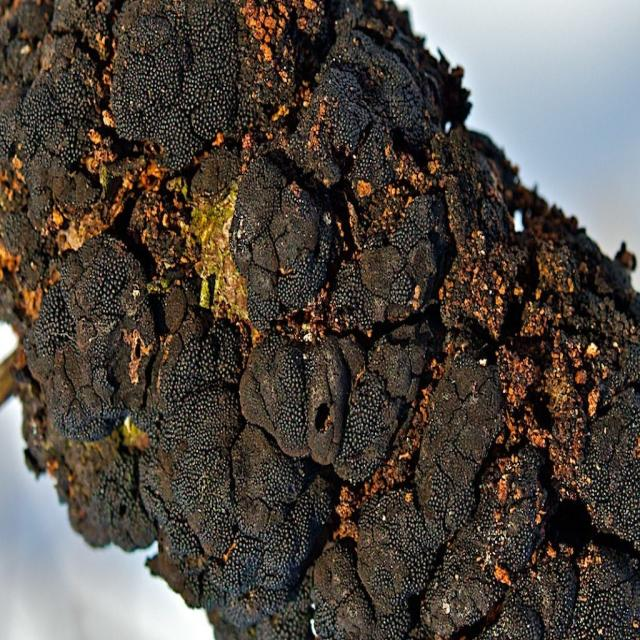Black_knot: (2, 0, 637, 637), (22, 232, 158, 443)
